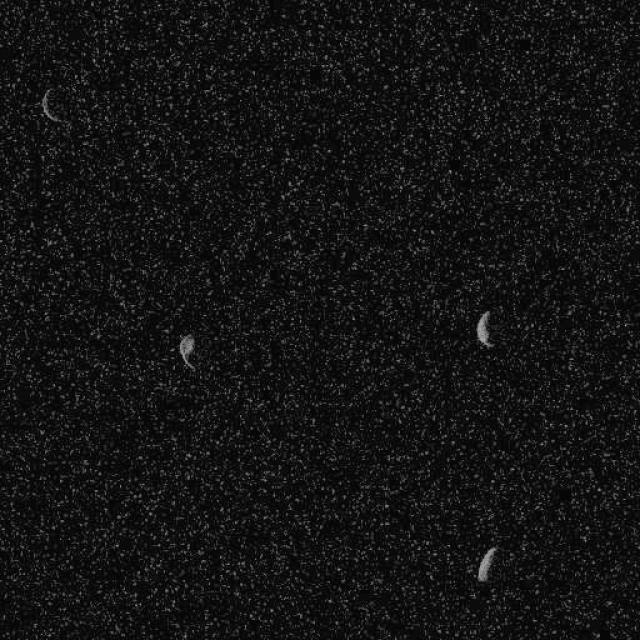D2: (39, 85, 70, 127), (475, 545, 497, 583), (475, 308, 494, 348), (178, 332, 196, 370)
